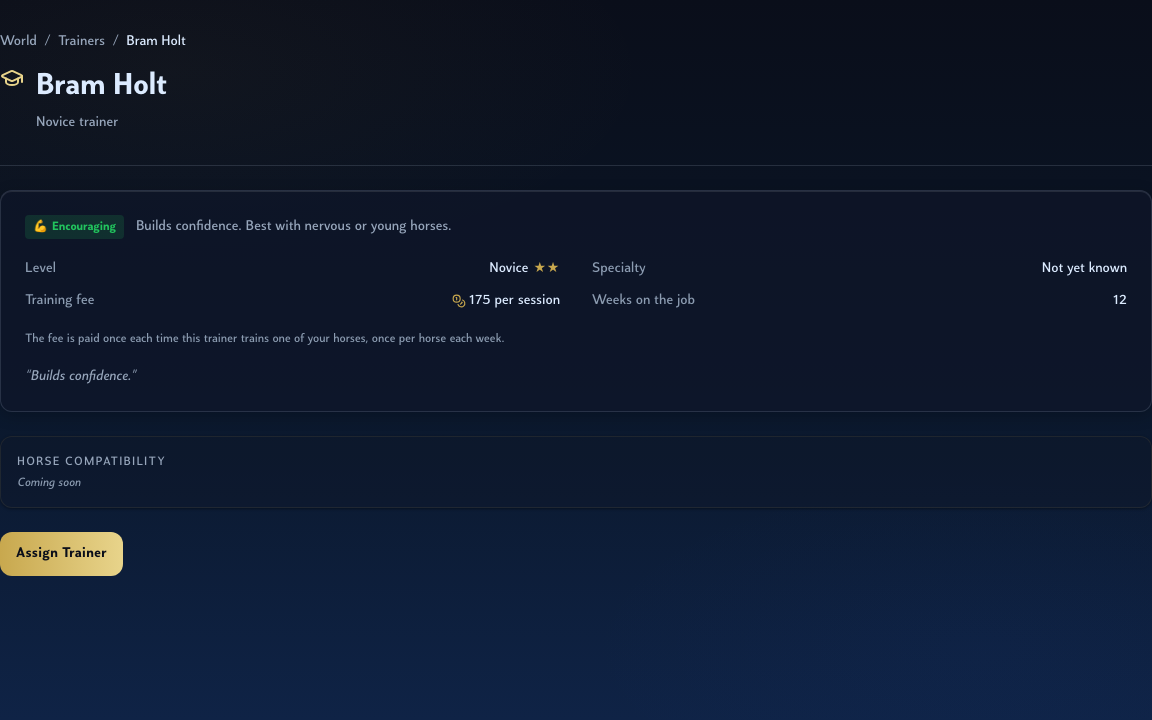
Test: TrainerPage — a hired trainer (Equoria-r8a6h q82) › shows the hired trainer and assigns it to the chosen horse
This screenshot has width=1152, height=720.
expect the heading "Bram Holt" is shown: met, box [36,64,167,109]
expect the element with test id "trainer-fee" shows "175": met, box [469,293,490,308]
Step 1. Click the button with test id "assign-trainer-button" → (62, 554), box [0,532,123,576]
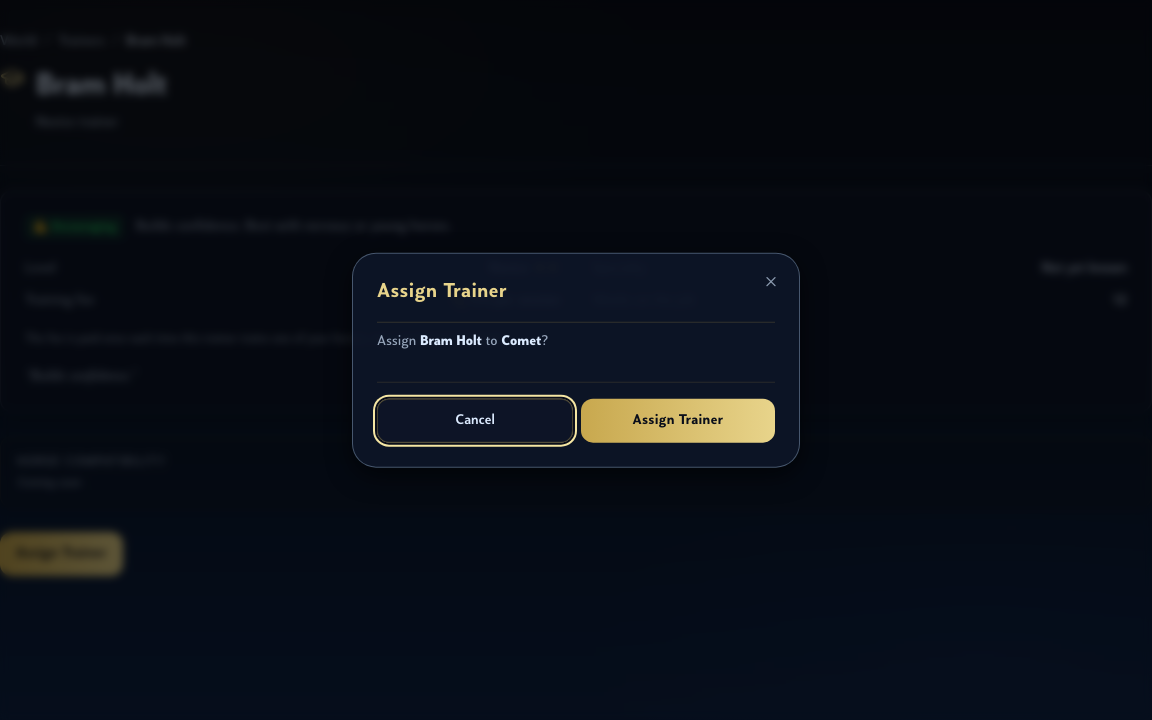
Step 2. Click the button with test id "confirm-assign-button" → (678, 420), box [581,398,775,442]
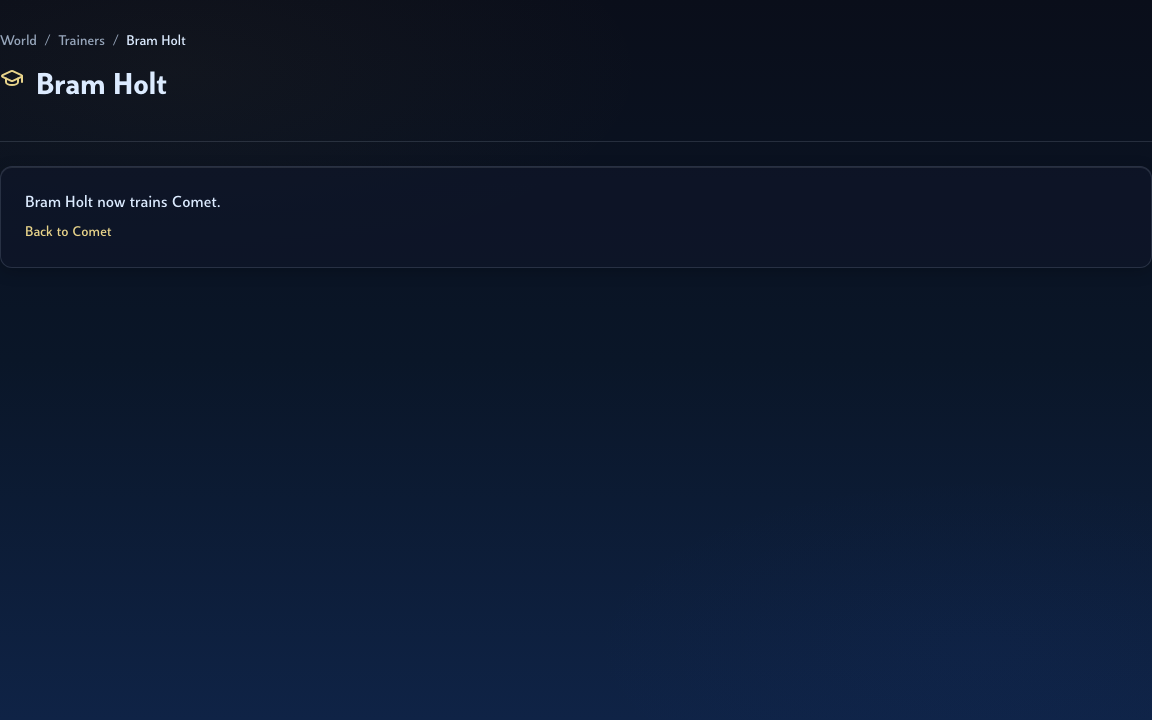
expect the element with test id "trainer-assigned" is shown: met, box [0,166,1151,268]
